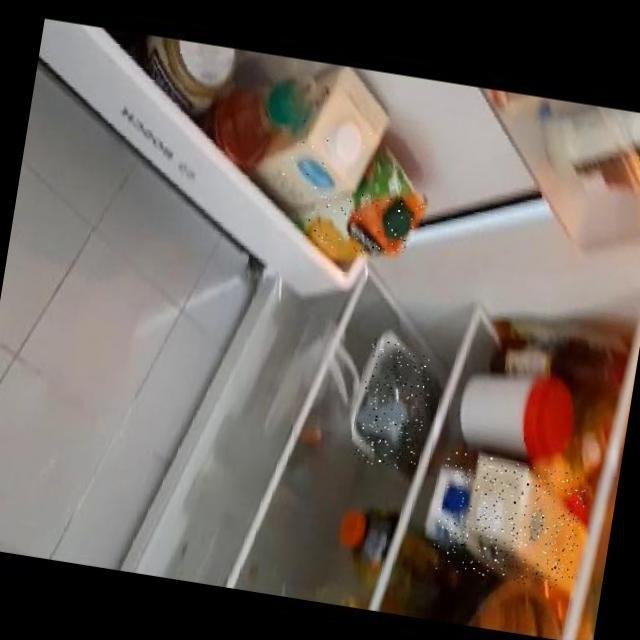Brocoli: (352, 339, 435, 471)
juice: (304, 187, 426, 262)
milk: (428, 452, 589, 592), (261, 104, 383, 196)
